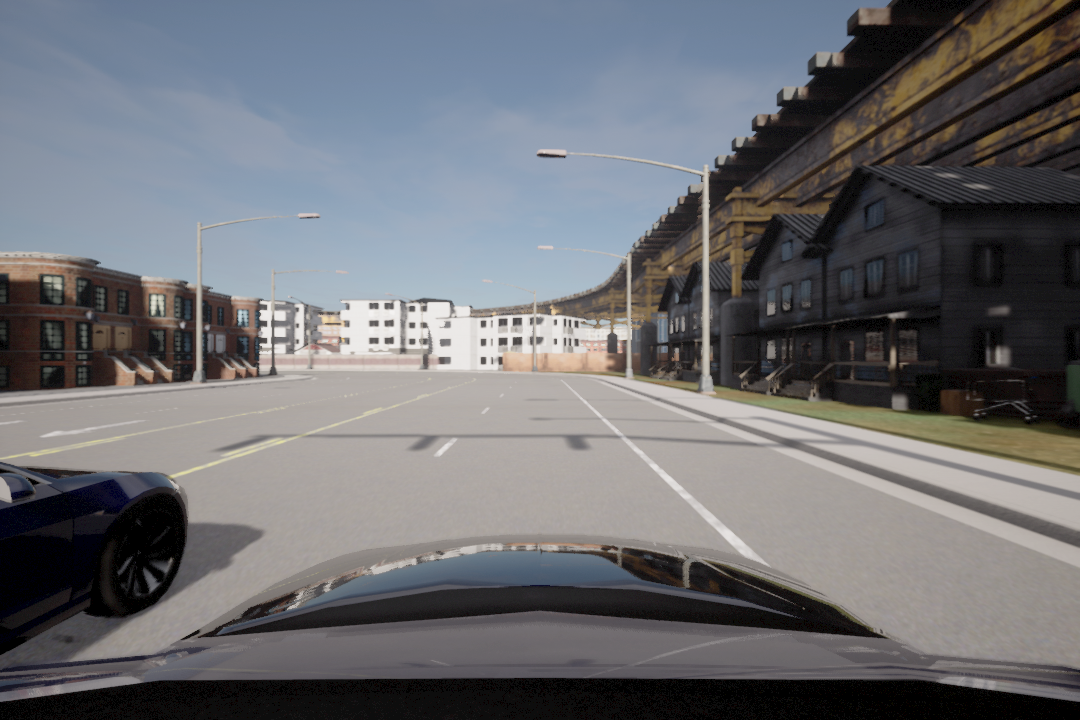RoadSign_forward: (30, 416, 148, 440)
